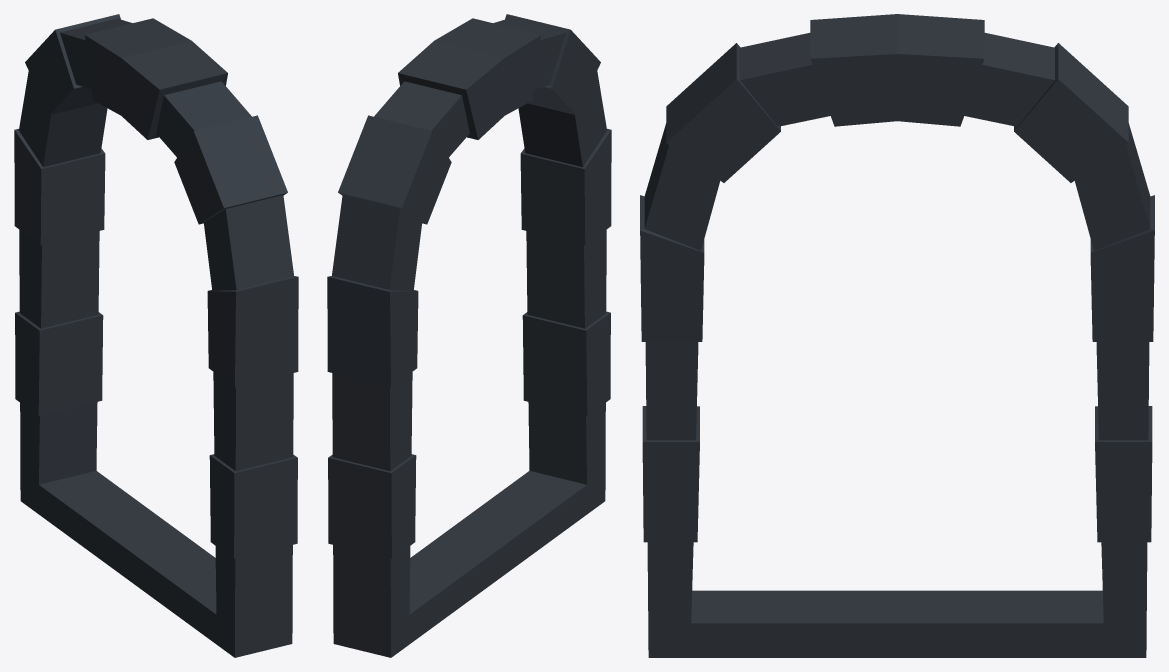
Rendered from DoorFrame_Round.fbx.
3 renders of one model, left to right at view 1: azimuth 30°, elevation 25°; view 2: azimuth 150°, elevation 25°; view 3: azimuth 270°, elevation 25°, orthographic. The views are drawn at different scales.
Parts seen in each view (by area): view 1: Door Round; view 2: Door Round; view 3: Door Round.
Part boxes in pixels (x1,y1,x2,y2): Door Round: [14, 14, 298, 657]; Door Round: [327, 14, 611, 657]; Door Round: [640, 14, 1154, 657].
Bounding box in the file's own units: 0.2485 × 1.73 × 1.33.
